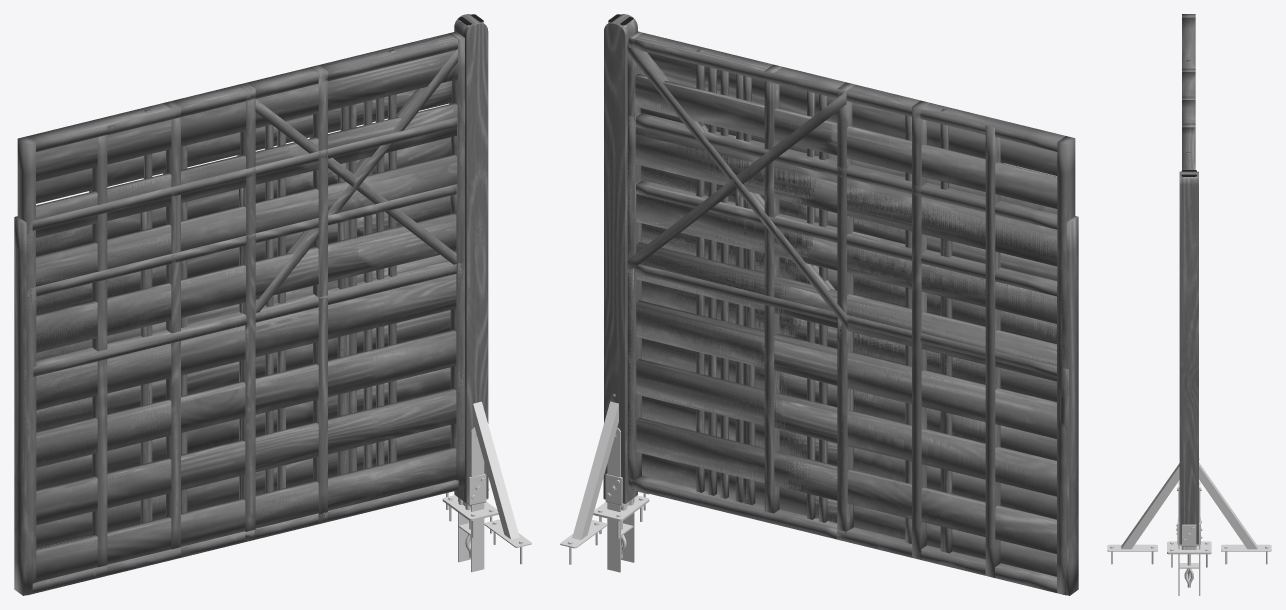
The model's file is dichCombo12.glb.
3 renders of one model, left to right at view 1: azimuth 30°, elevation 25°; view 2: azimuth 150°, elevation 25°; view 3: azimuth 270°, elevation 25°, orthographic. The views are drawn at different scales.
Visible parts, largest first — view 1: Sealing 180x180, Sealing 120x180, Sealing 150x180, Sealing 180x150, Sealing 60x180, Sealing 90x180, Sealing 90x180/90 2, Sealing 180x90, Sealing 90x180/90, Sealing 180x120, stubić Sina, sturmanker-right-front (+2 smaller); view 2: Sealing 180x180, Sealing 180x150, Sealing 180x120, Sealing 180x90, Sealing 150x180, Sealing 90x180/90 2, Sealing 120x180, stubić Sina, Sealing 60x180, Sealing 90x180/90, Sealing 90x180, sturmanker-right-rear (+2 smaller); view 3: stubić Sina, sturmanker-right-rear, sturmanker-right-front, Sealing 180x180, Sealing 60x180, post-root-right, Nosač Stubića Sina, Sealing 120x180, Sealing 90x180, NosacBoth.
Part boxes in pixels (box(x1,y1,x2,y2)): Sealing 180x180: box(17, 38, 464, 594); Sealing 120x180: box(163, 65, 464, 557); Sealing 150x180: box(89, 38, 464, 575); Sealing 180x150: box(14, 117, 464, 595); Sealing 60x180: box(310, 31, 464, 523); Sealing 90x180: box(237, 55, 464, 538); Sealing 90x180/90 2: box(246, 99, 464, 529); Sealing 180x90: box(24, 260, 464, 594); Sealing 90x180/90: box(242, 49, 464, 541); Sealing 180x120: box(27, 184, 464, 595); stubić Sina: box(454, 14, 488, 503); sturmanker-right-front: box(473, 401, 531, 564); Sealing 180x180: box(627, 38, 1075, 592); Sealing 180x150: box(627, 113, 1078, 595); Sealing 180x120: box(627, 180, 1065, 595); Sealing 180x90: box(627, 264, 1068, 592); Sealing 150x180: box(628, 44, 1003, 577); Sealing 90x180/90 2: box(627, 91, 846, 539); Sealing 120x180: box(627, 38, 929, 559); stubić Sina: box(604, 14, 637, 503); Sealing 60x180: box(627, 31, 782, 513); Sealing 90x180/90: box(627, 40, 850, 531); Sealing 90x180: box(627, 42, 855, 538); sturmanker-right-rear: box(560, 394, 618, 564); stubić Sina: box(1179, 171, 1198, 544); sturmanker-right-rear: box(1199, 458, 1271, 564); sturmanker-right-front: box(1107, 463, 1179, 564); Sealing 180x180: box(1182, 14, 1195, 68); Sealing 60x180: box(1182, 123, 1195, 170); post-root-right: box(1167, 541, 1211, 567); Nosač Stubića Sina: box(1177, 481, 1201, 595); Sealing 120x180: box(1182, 68, 1195, 96); Sealing 90x180: box(1182, 96, 1195, 123); NosacBoth: box(1182, 524, 1196, 580).
Bounding box in the file's own units: 1.92 × 2.14 × 0.7571.
Materials: 9 (1 with a texture image).
